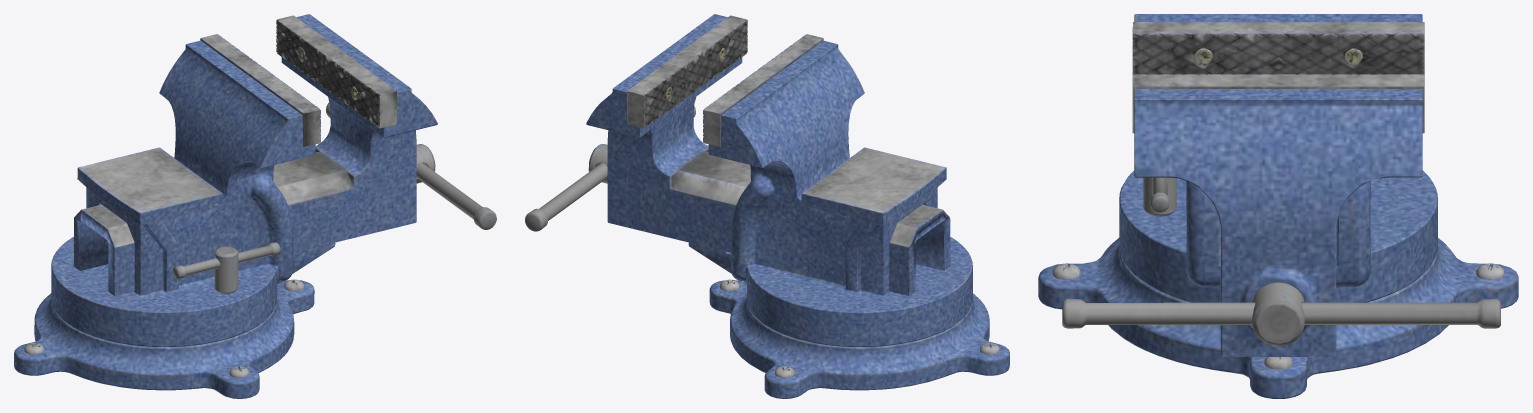
File: nvidia-equipment-bench-vise.glb
3 renders of one model, left to right at view 1: azimuth 30°, elevation 25°; view 2: azimuth 150°, elevation 25°; view 3: azimuth 270°, elevation 25°, orthographic. The views are drawn at different scales.
Visible parts, largest first — view 1: body_01_mesh_00; view 2: body_01_mesh_00; view 3: body_01_mesh_00.
Part boxes in pixels (x1=…): body_01_mesh_00: x1=14, y1=14, x2=496, y2=398; body_01_mesh_00: x1=525, y1=14, x2=1009, y2=398; body_01_mesh_00: x1=1038, y1=14, x2=1518, y2=398.
Bounding box in the file's own units: 0.3243 × 0.1803 × 0.2327.
Materials: 1 (1 with a texture image).
